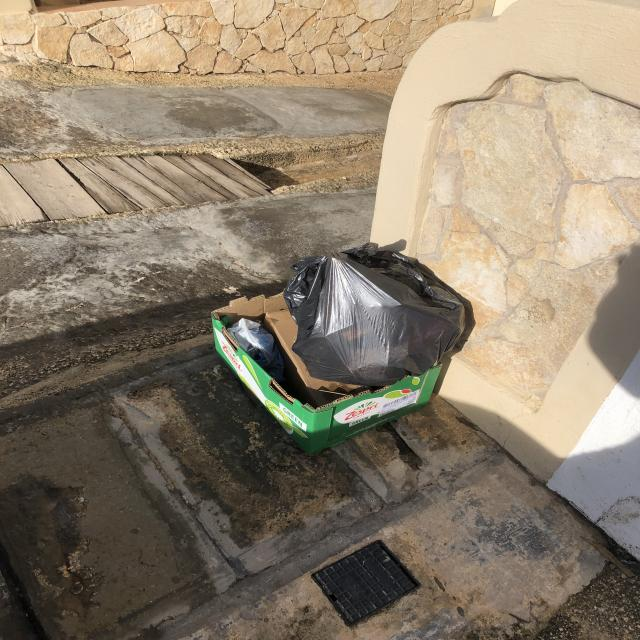Mixed Waste -Black Bag-: (285, 244, 465, 386)
Other: (208, 291, 445, 453)
